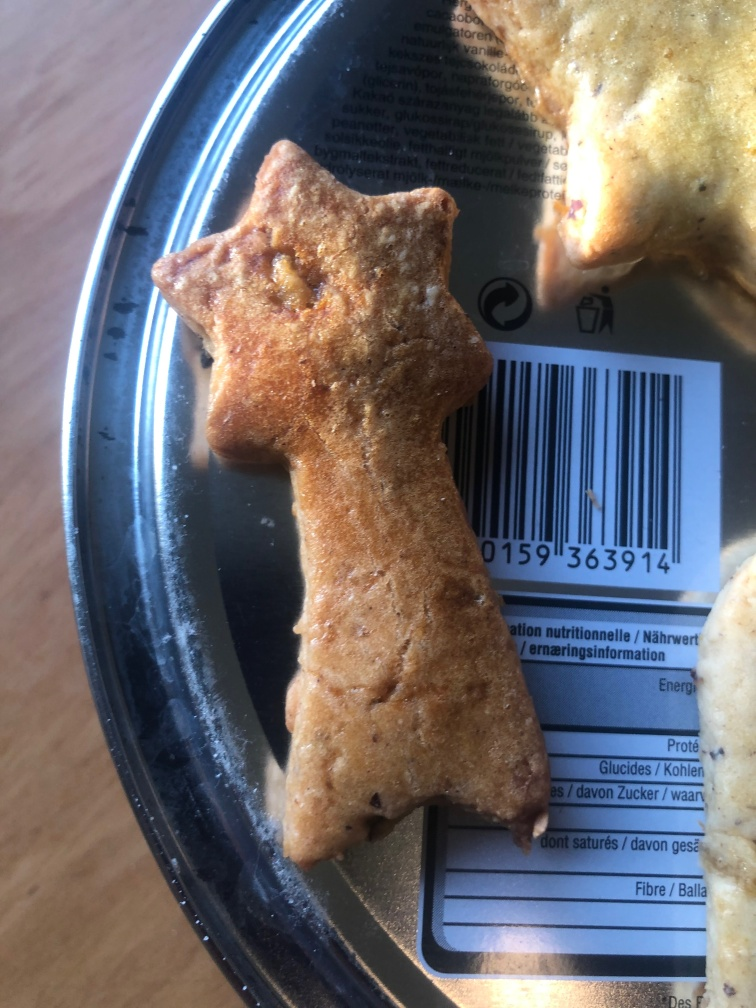shooting star: (144, 130, 571, 868)
star: (455, 1, 755, 312)
